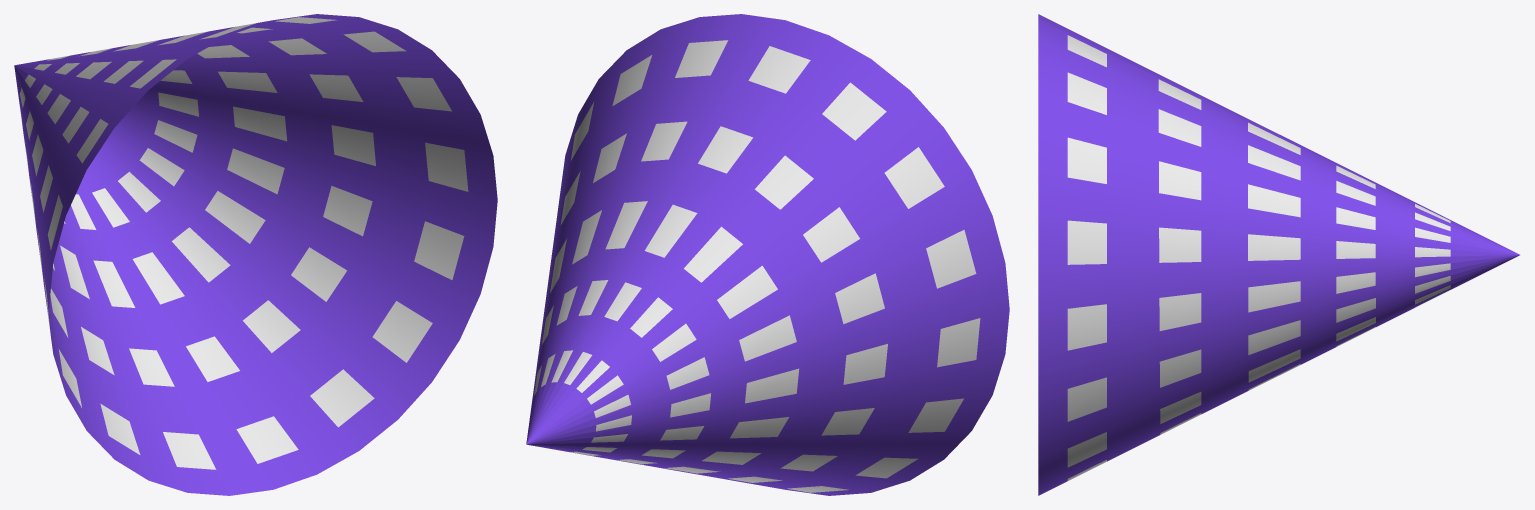
Rendered from Pointer.fbx.
The picture shows the model from 3 angles, left to right: view 1: azimuth 30°, elevation 25°; view 2: azimuth 150°, elevation 25°; view 3: azimuth 270°, elevation 25°; orthographic projection. The views are drawn at different scales.
Parts seen in each view (by area): view 1: Cone; view 2: Cone; view 3: Cone.
Part boxes in pixels (x1,y1,x2,y2): Cone: (14, 14, 497, 495); Cone: (526, 14, 1009, 495); Cone: (1038, 14, 1519, 495).
Bounding box in the file's own units: 55 × 55 × 55.
